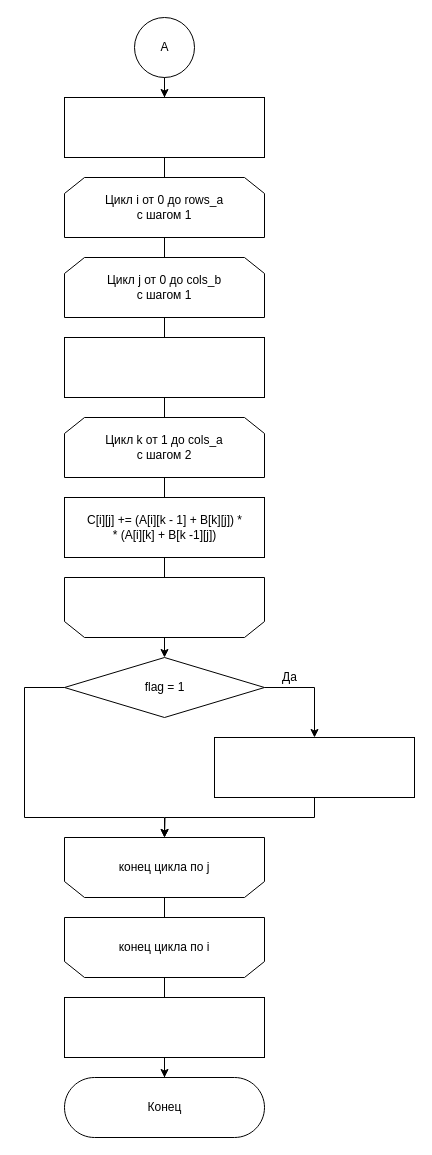
Image size: 432x1155. Some labels were removed from this diagram. Each missing label, with the box of its shape:
C[i][j] += A[i][cols_a - 1] * B[rows_b - 1][j]: (214, 736, 414, 798)
C[i][j] = - (mul_row[i] + mul_col[j]): (64, 336, 264, 398)
flag = cols_a % 2: (64, 96, 264, 158)
Вернуть матрицу C: (64, 996, 264, 1058)
конец цикла по k: (64, 576, 264, 638)
